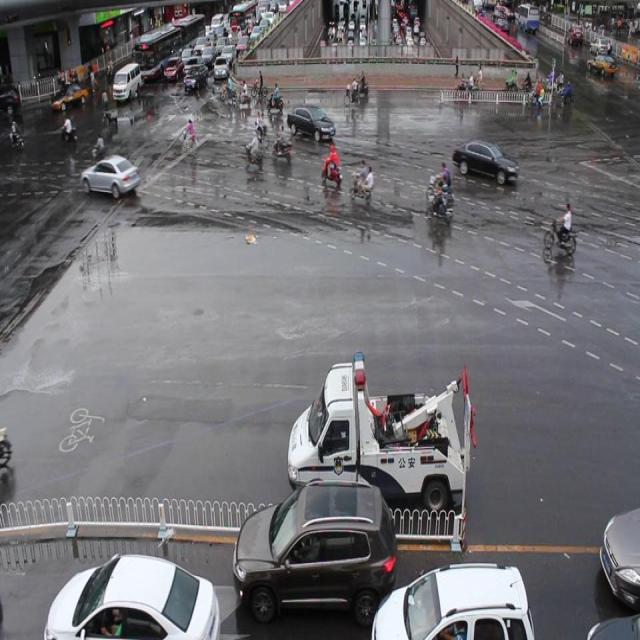bus: (287, 352, 473, 518)
car: (235, 481, 396, 622), (45, 554, 219, 640), (370, 557, 536, 640), (599, 510, 640, 610), (451, 138, 516, 188), (288, 104, 336, 142), (582, 610, 640, 639)
